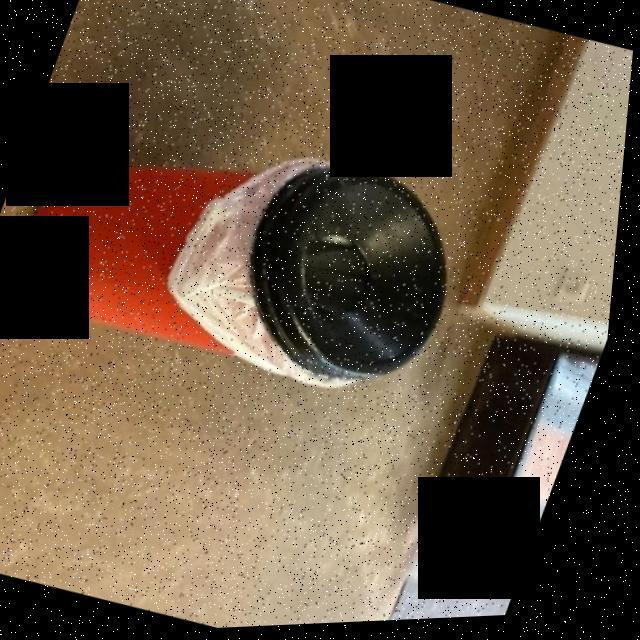bin: (0, 56, 553, 462)
